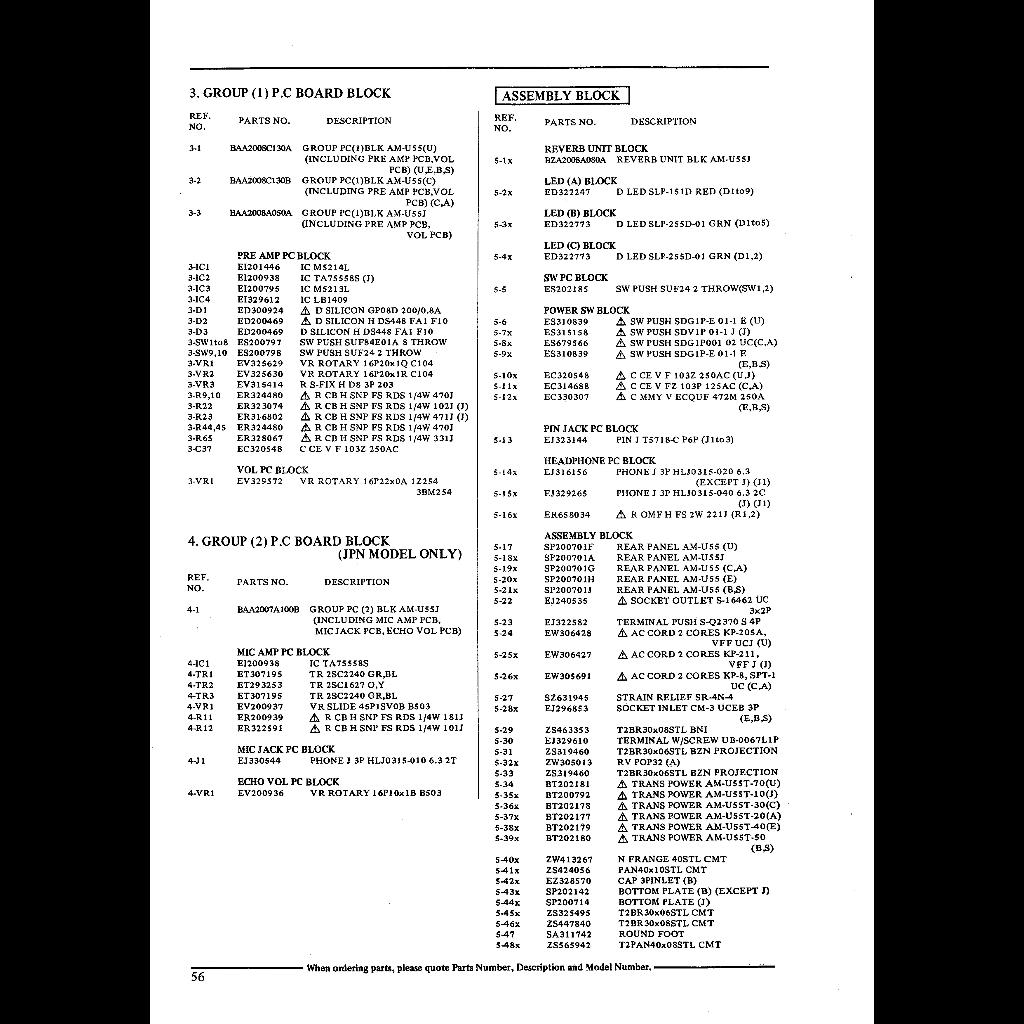Table: (487, 108, 801, 954), (178, 83, 470, 817)
